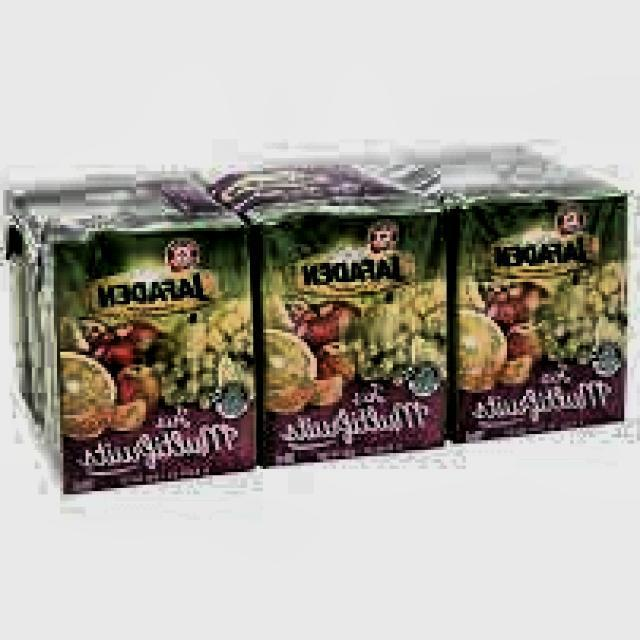cardboard: (6, 171, 260, 494)
